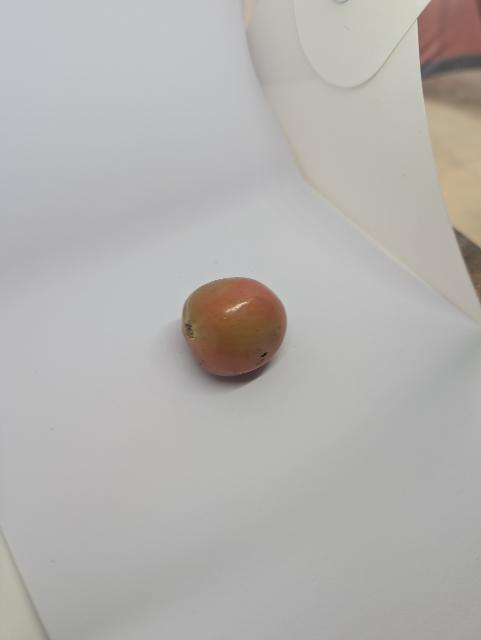turning: (174, 267, 296, 383)
